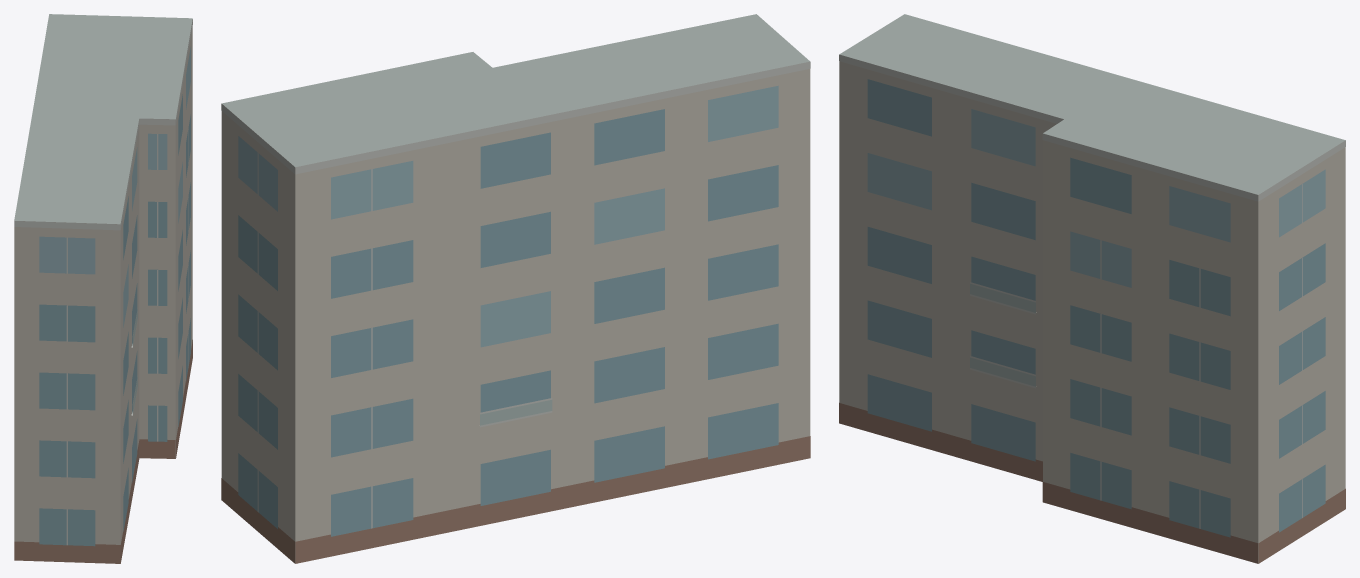
File: survey-upis-32703486.glb
3 renders of one model, left to right at view 1: azimuth 30°, elevation 25°; view 2: azimuth 150°, elevation 25°; view 3: azimuth 270°, elevation 25°, orthographic. The views are drawn at different scales.
Parts seen in each view (by area): view 1: survey-upis-32703486.tmp; view 2: survey-upis-32703486.tmp; view 3: survey-upis-32703486.tmp.
Boxes of the visible parts, bbox=[...] form: survey-upis-32703486.tmp: bbox=[14, 14, 192, 563]; survey-upis-32703486.tmp: bbox=[221, 14, 810, 563]; survey-upis-32703486.tmp: bbox=[839, 14, 1345, 563].
Bounding box in the file's own units: 14.16 × 13.45 × 16.75.
